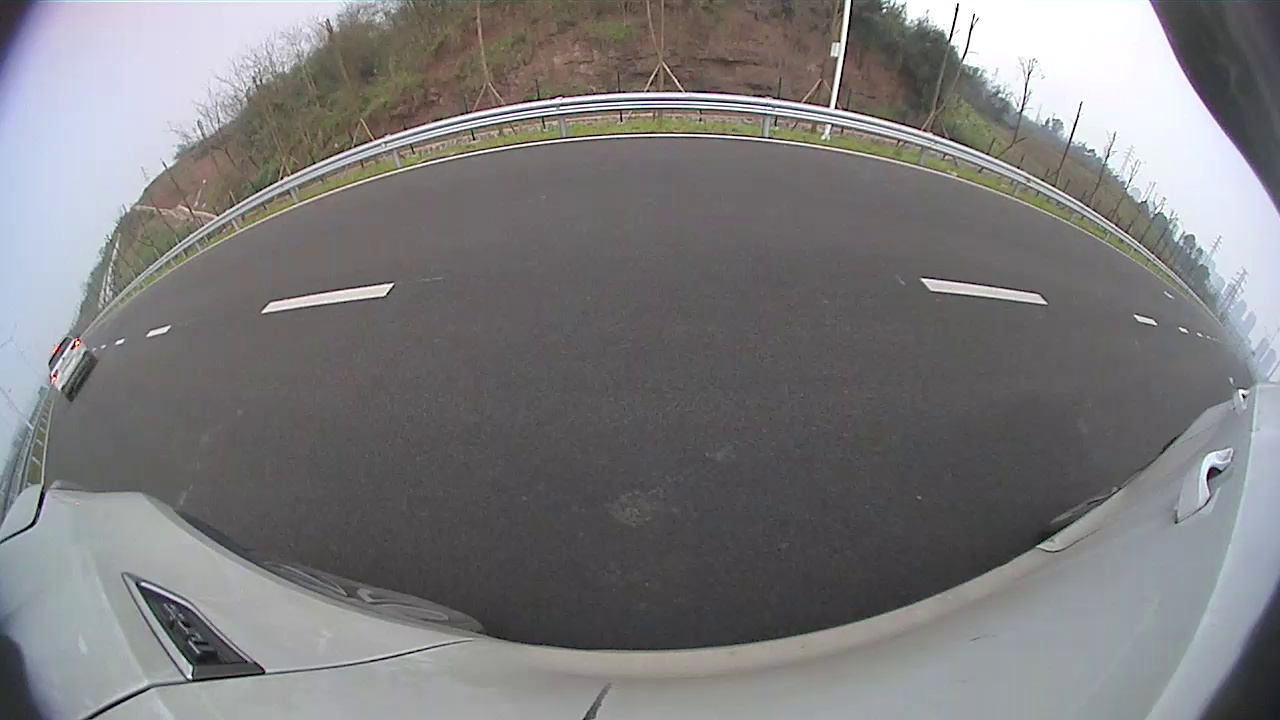car: (715, 149, 782, 196)
front: (713, 176, 721, 190)
rear: (724, 177, 734, 194)
